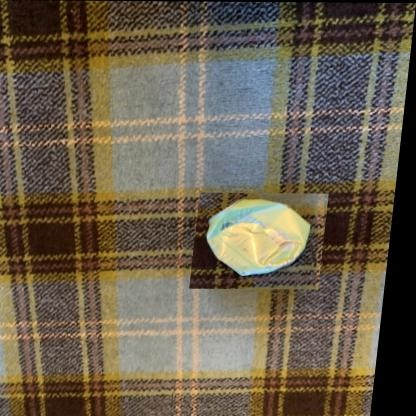trash: (207, 199, 309, 275)
